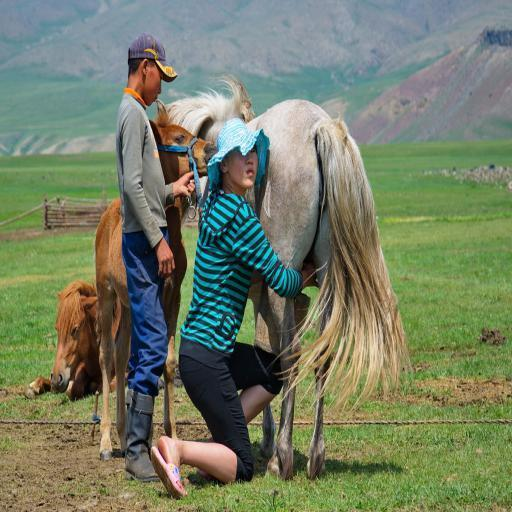horse: (156, 72, 414, 481), (92, 110, 218, 460), (22, 278, 133, 396)
